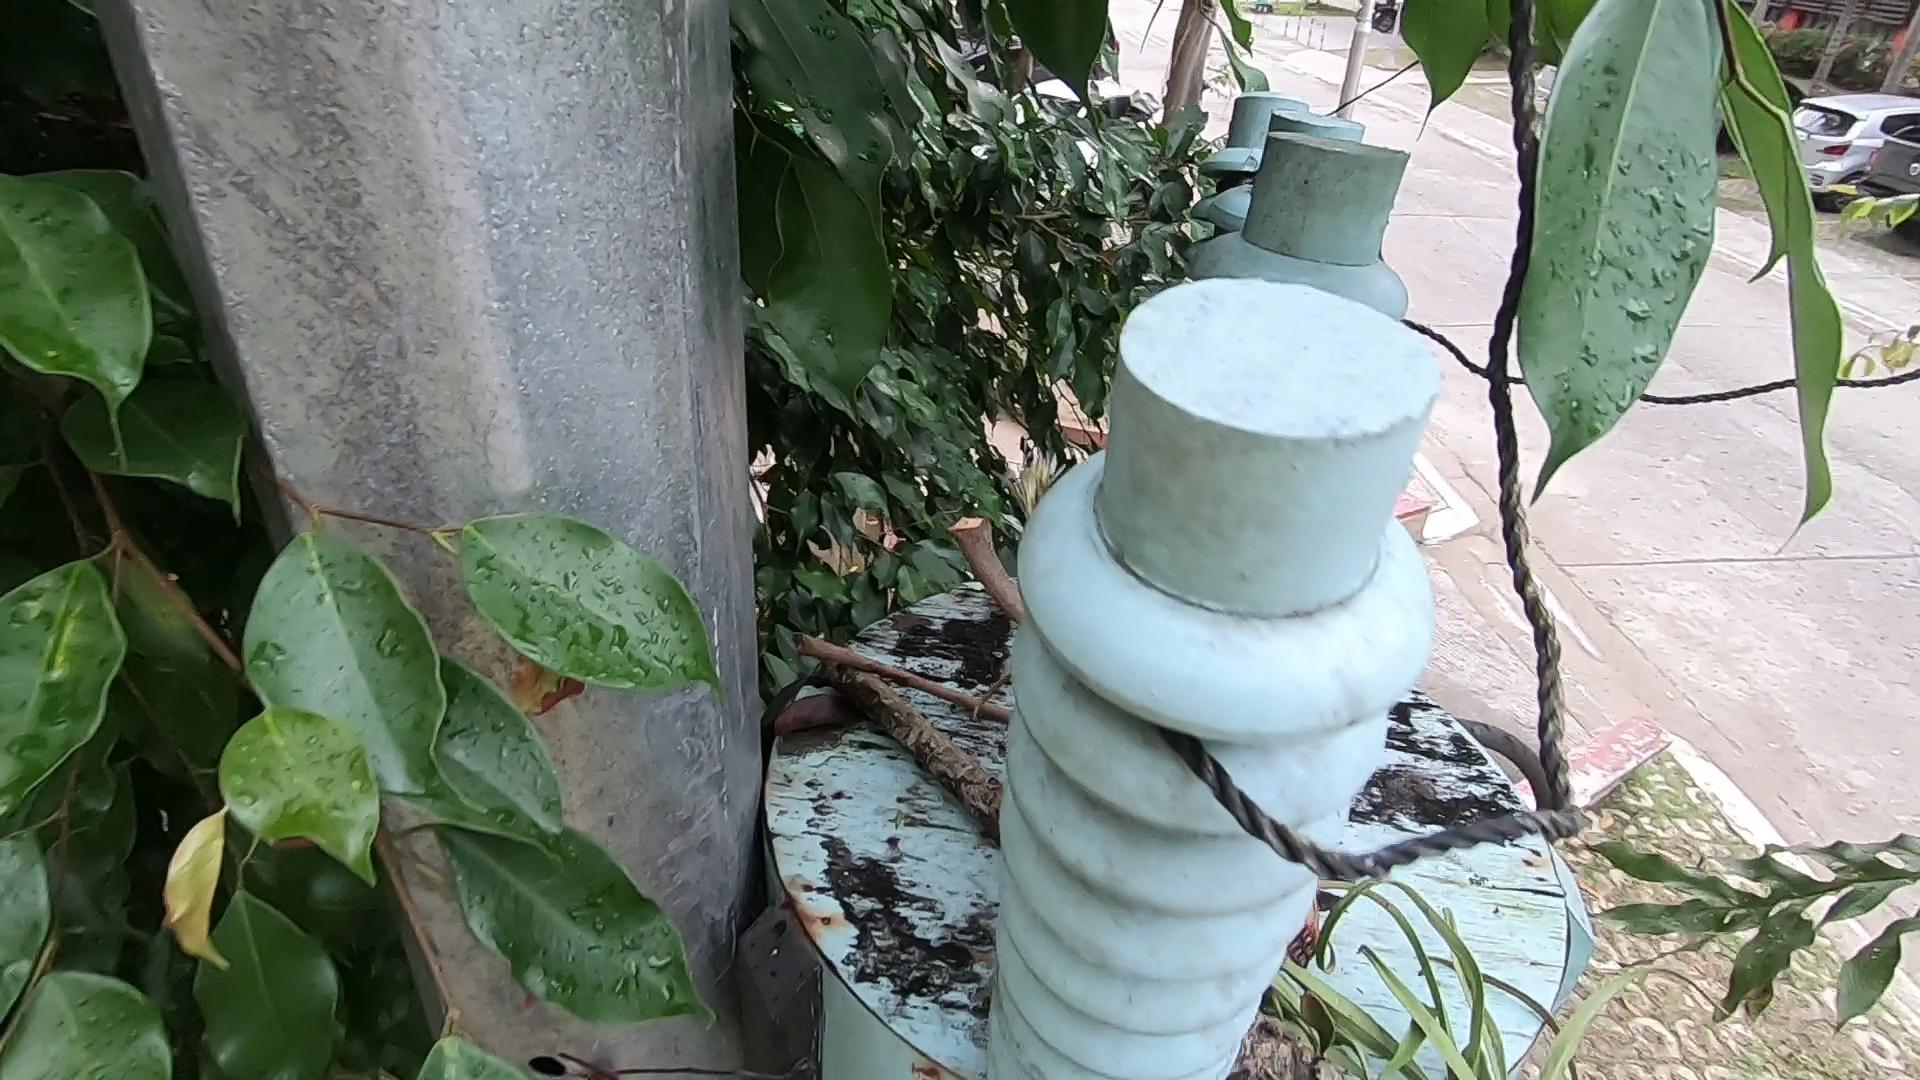branch with leaves: (828, 613, 1474, 1080)
leaf: (779, 684, 864, 757)
tree branch: (789, 628, 1110, 727), (951, 495, 1060, 688)
